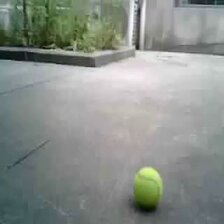tennis: (132, 166, 162, 207)
